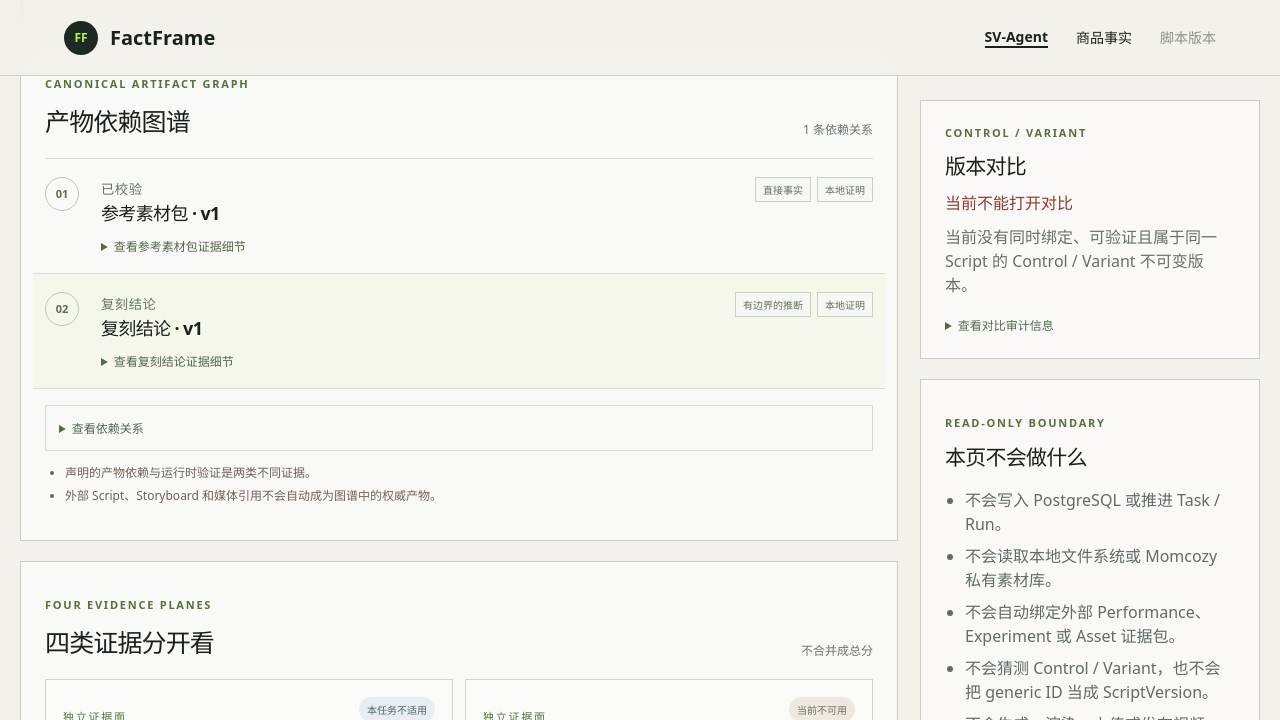
Test: SV-Agent Evidence and Artifacts › shows the canonical graph and keeps four evidence planes separate
(page scrolled)
Expected: the heading "参考素材包 · v1" is shown, [101,199,220,225]
Expected: the heading "复刻结论 · v1" is shown, [101,314,202,340]
Click the heading "查看复刻结论证据细节": (174, 361) [114,353,234,370]
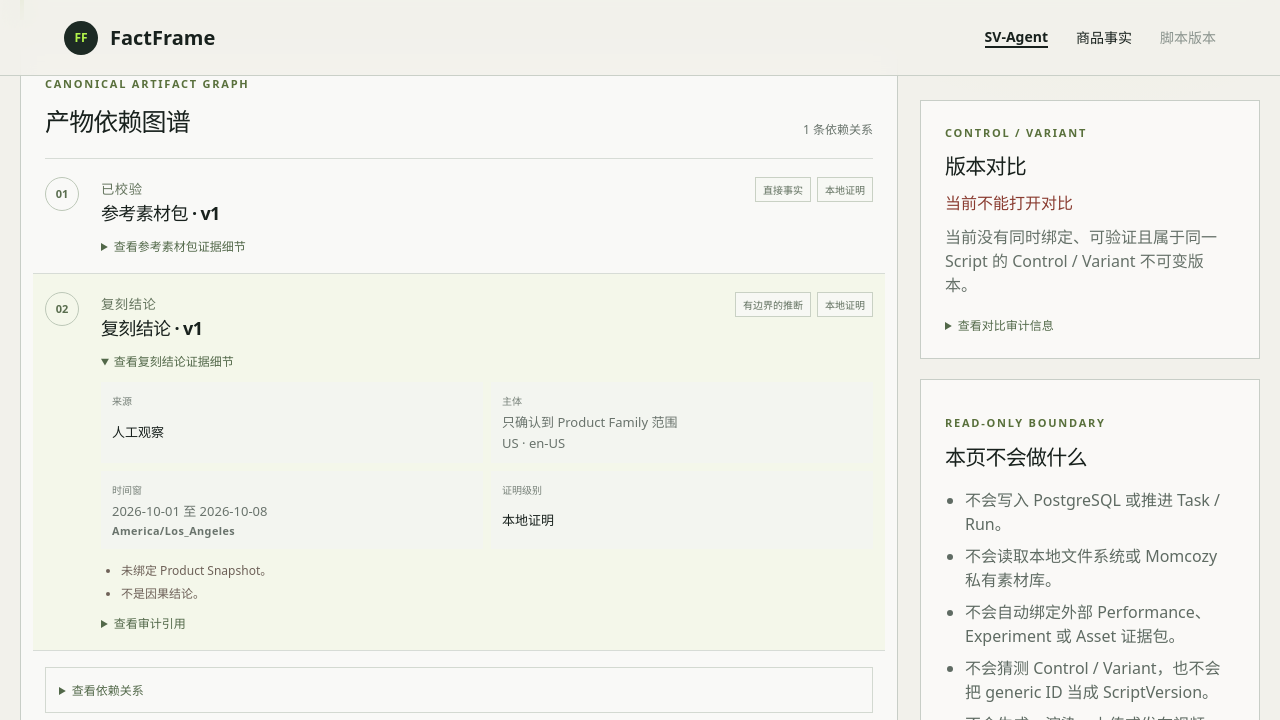
Expected: the text "人工观察" is shown, [112,423,164,441]
Expected: the text "只确认到 Product Family 范围" is shown, [502,413,678,431]
Expected: the text "2026-10-01 至 2026-10-08" is shown, [112,502,268,520]
Click the heading "查看审计引用": (150, 623) [114,615,186,632]
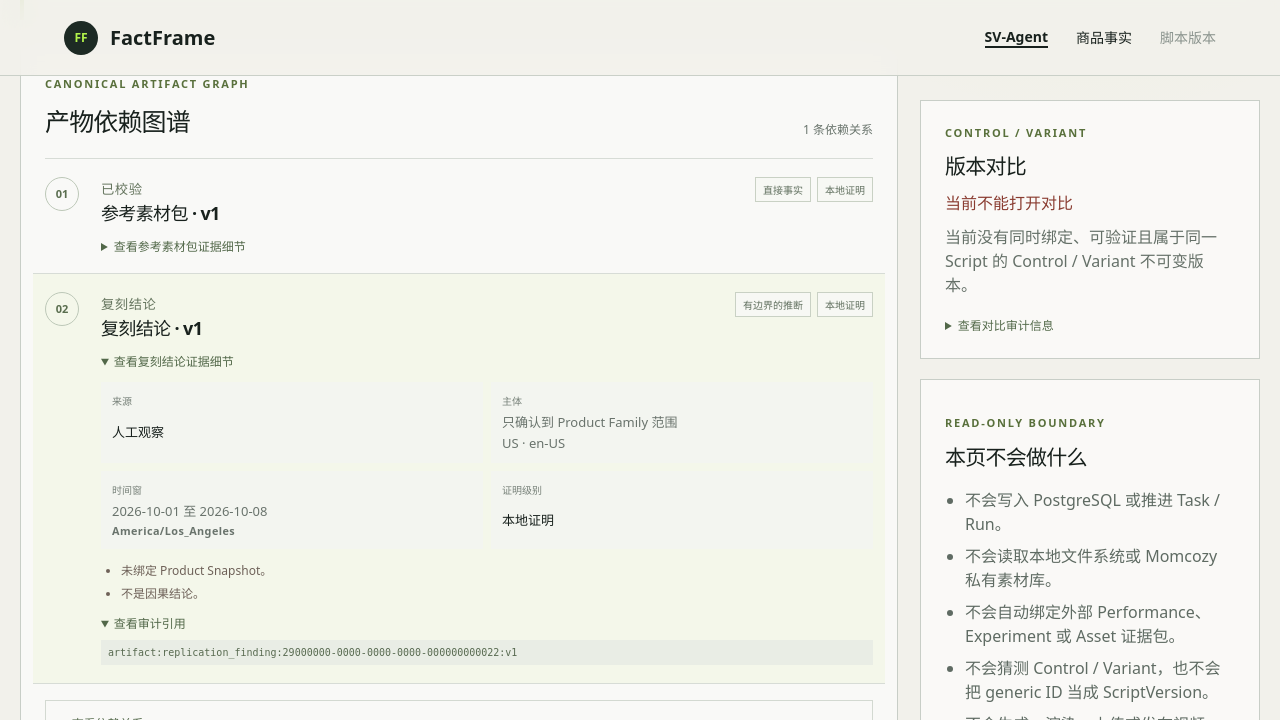
Expected: the text "COMPARISON_VERSION_REFS_UNAVAILABLE" is not shown
Expected: the text "artifact:replication_finding:29000000-0000-0000-0000-000000000022:v1" is shown, [101,640,873,665]
Click the heading "查看对比审计信息": (1006, 326) [958,317,1054,334]
(page scrolled)
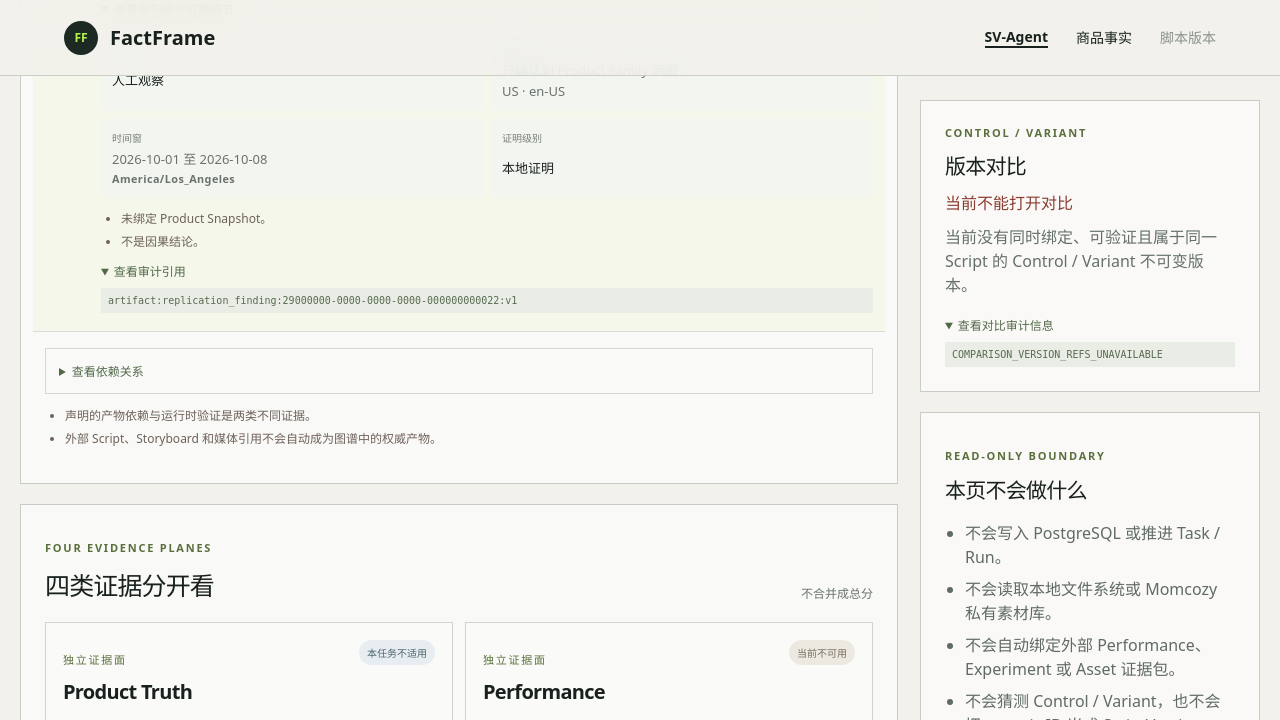
Expected: the list item "不会读取本地文件系统或 Momcozy 私有素材库。" is shown, [965,576,1235,624]
Expected: the text "COMPARISON_VERSION_REFS_UNAVAILABLE" is shown, [945,342,1235,367]
